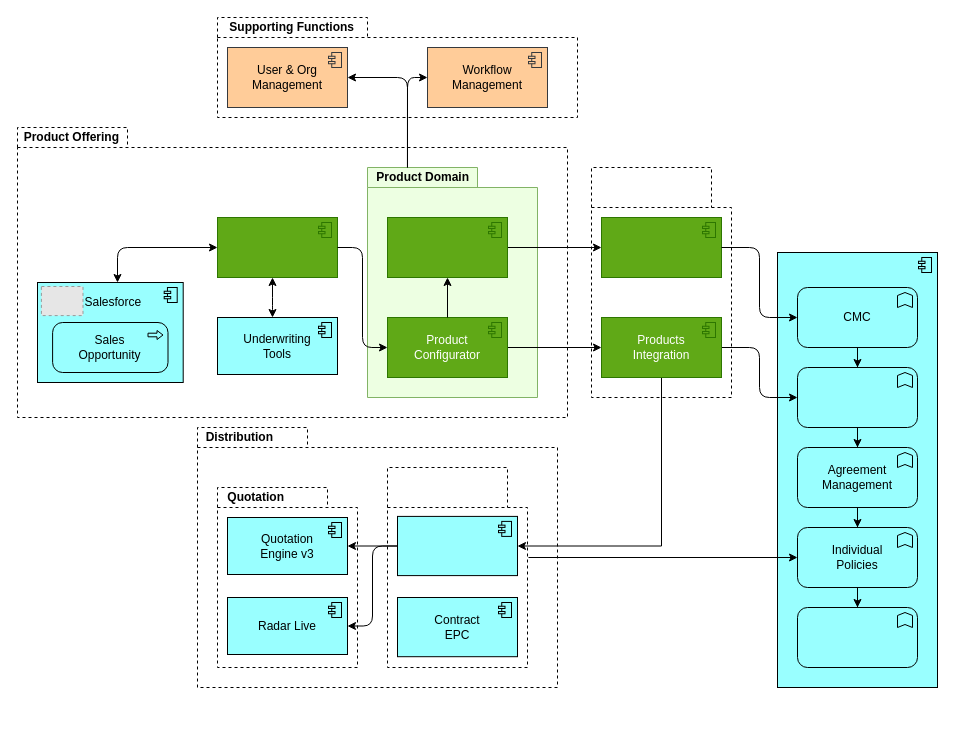
This 955x755 diagram has some shape labels left out. Grey dashed boxes stand in for pictures. The box of each missing label's shape, as (x1, y1, x2, y2) in pixels:
ABS: (776, 252, 938, 688)
Claims Management: (796, 606, 918, 668)
Components Integration: (600, 216, 722, 278)
Components Library: (386, 216, 508, 278)
Distribution Platforms: (386, 466, 528, 668)
Integratinon Layer: (590, 166, 732, 398)
Master Contract and MPOPs: (796, 366, 918, 428)
Product Offer Integration: (216, 216, 338, 278)
Quote & Buy: (396, 515, 518, 576)
